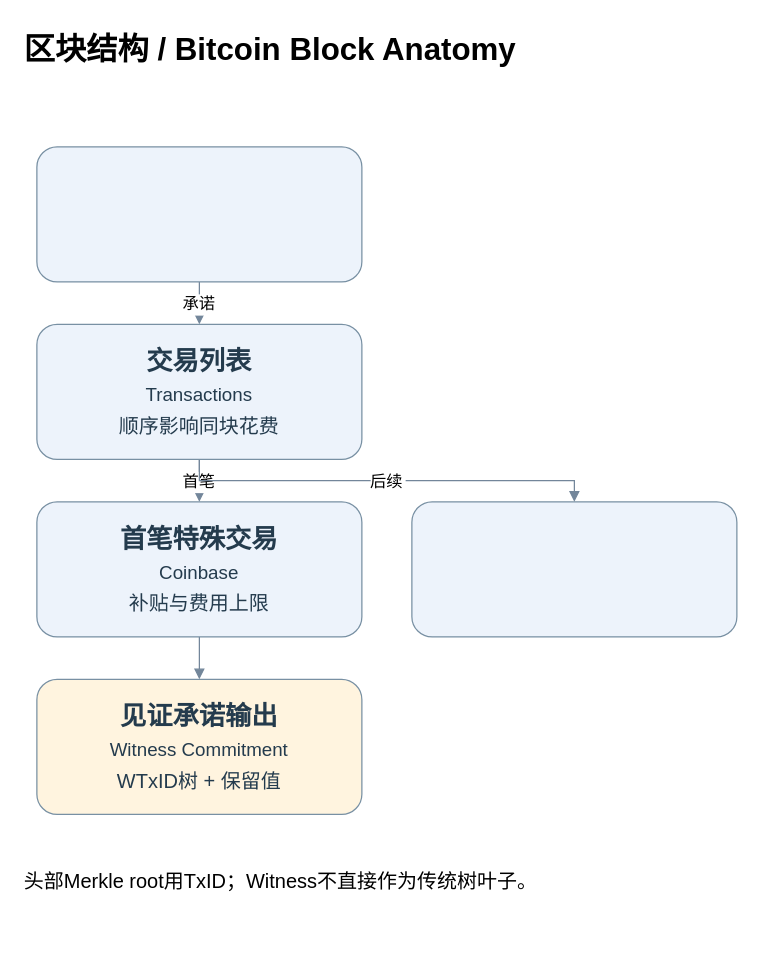
This 773x969 diagram has some shape labels left out. The centre of each missing label's shape, as x and y in pixels:
区块头 Block Header · 80 bytes prev hash / Merkle / bits: the point at 199,214
后续普通交易 Normal Transactions 消费旧输出、创建新输出: the point at 574,569
